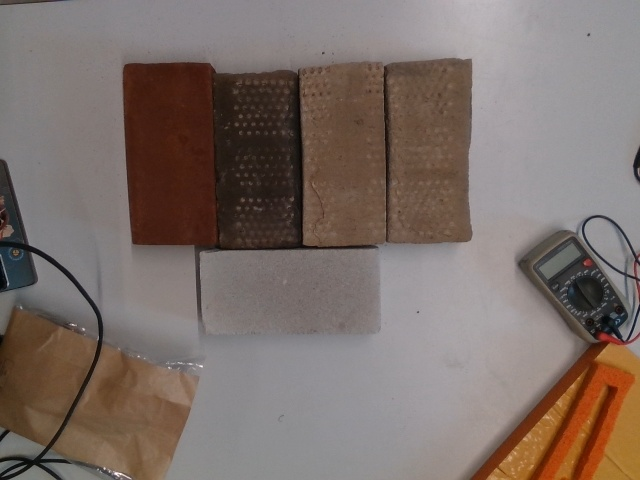brick: (298, 65, 388, 244), (201, 248, 380, 336), (387, 59, 473, 239), (211, 73, 300, 246), (127, 66, 213, 243)
